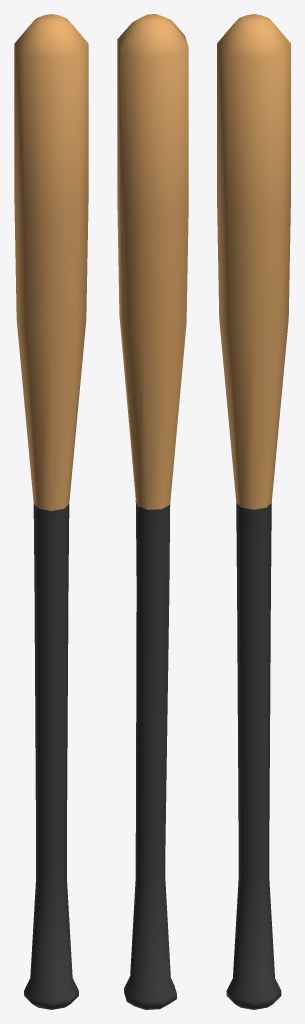
File: Wooden Bat.fbx
The picture shows the model from 3 angles, left to right: view 1: azimuth 90°, elevation 25°; view 2: azimuth 210°, elevation 25°; view 3: azimuth 270°, elevation 25°; orthographic projection.
Parts seen in each view (by area): view 1: bat; view 2: bat; view 3: bat.
Boxes of the visible parts, x1=… form: bat: x1=14, y1=14, x2=88, y2=1009; bat: x1=117, y1=14, x2=188, y2=1009; bat: x1=217, y1=14, x2=290, y2=1009.
Bounding box in the file's own units: 0.0931 × 1.36 × 0.0931.
